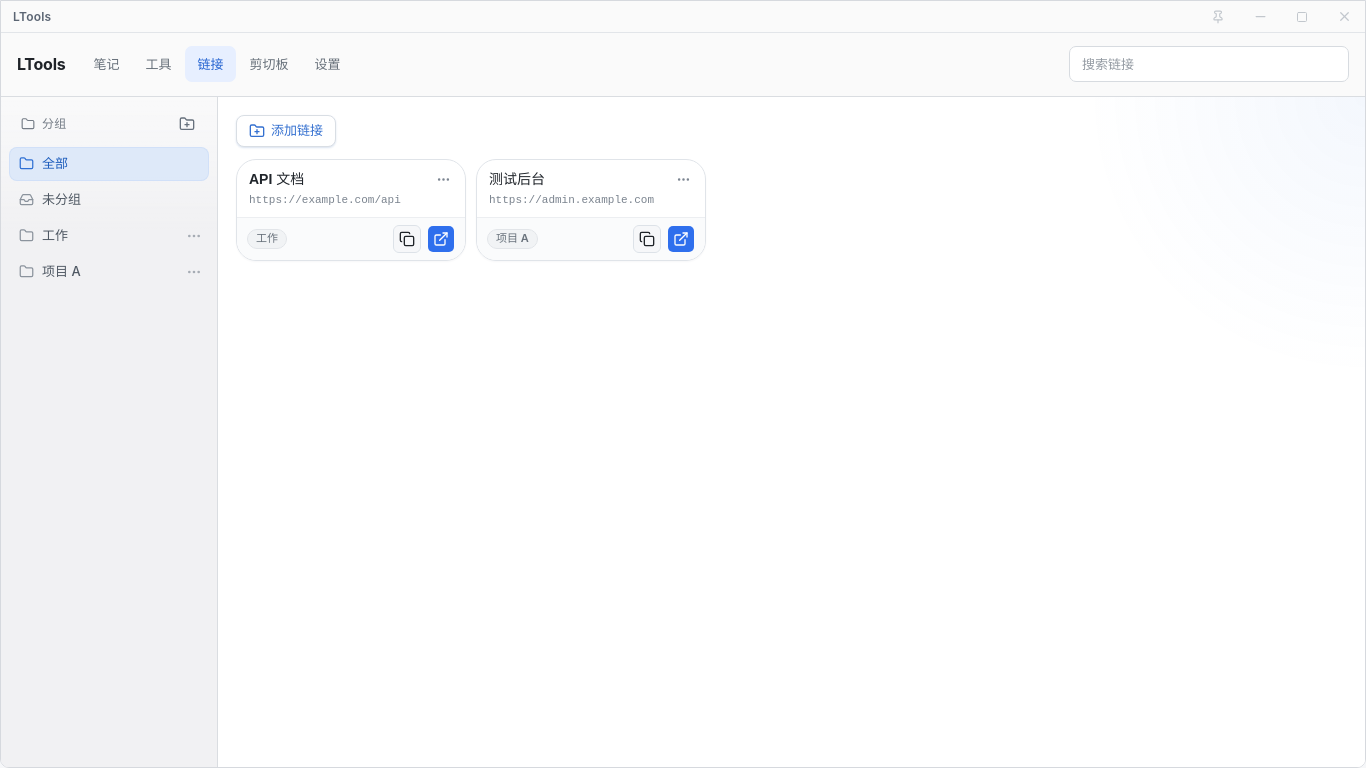
Scenario: shared group management › opens an accessible create dialog and closes it with Escape
The width and height of the screenshot is (1366, 768).
Click the button named "新建分组": (187, 124) x1=173 y1=110 x2=201 y2=138
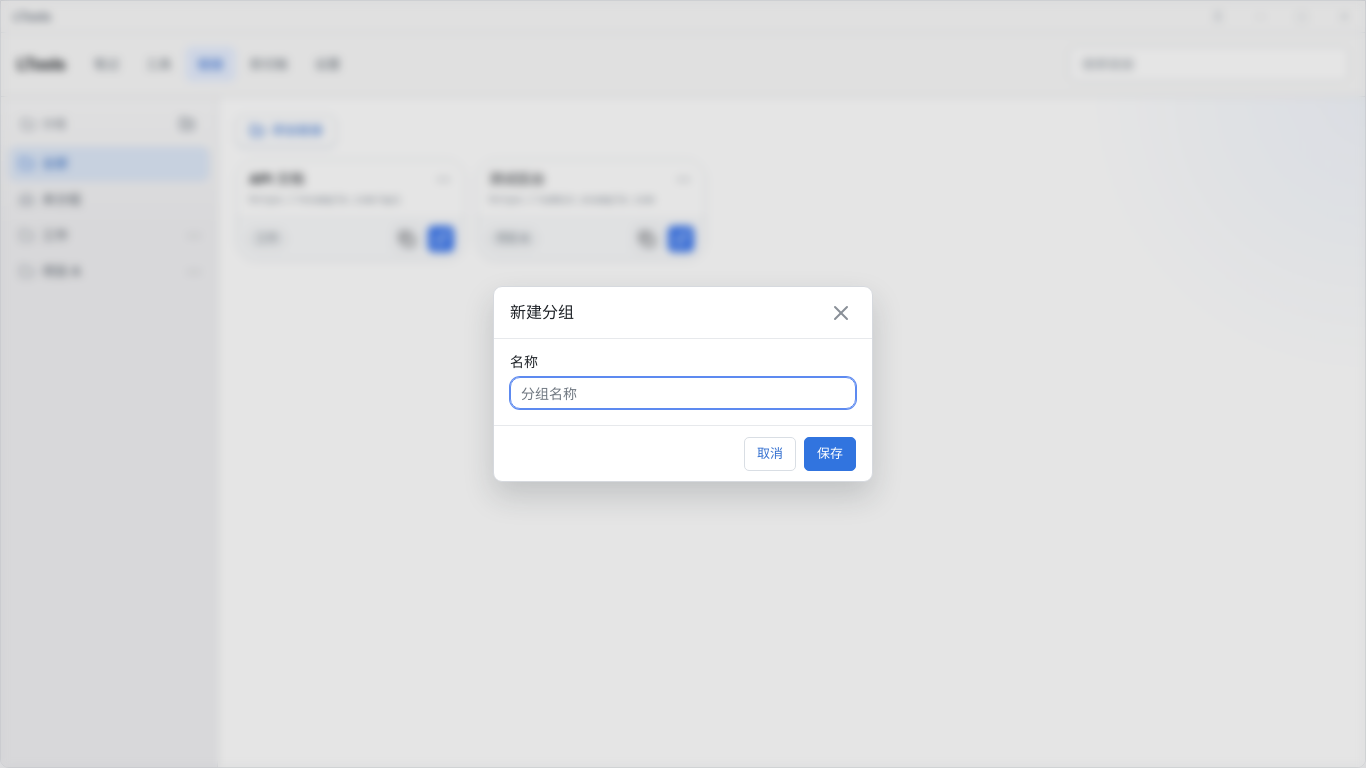
Expected: the dialog "新建分组" is shown, x1=493 y1=286 x2=873 y2=482
Expected: the field labelled "名称" is shown, x1=510 y1=377 x2=856 y2=409
Press Escape
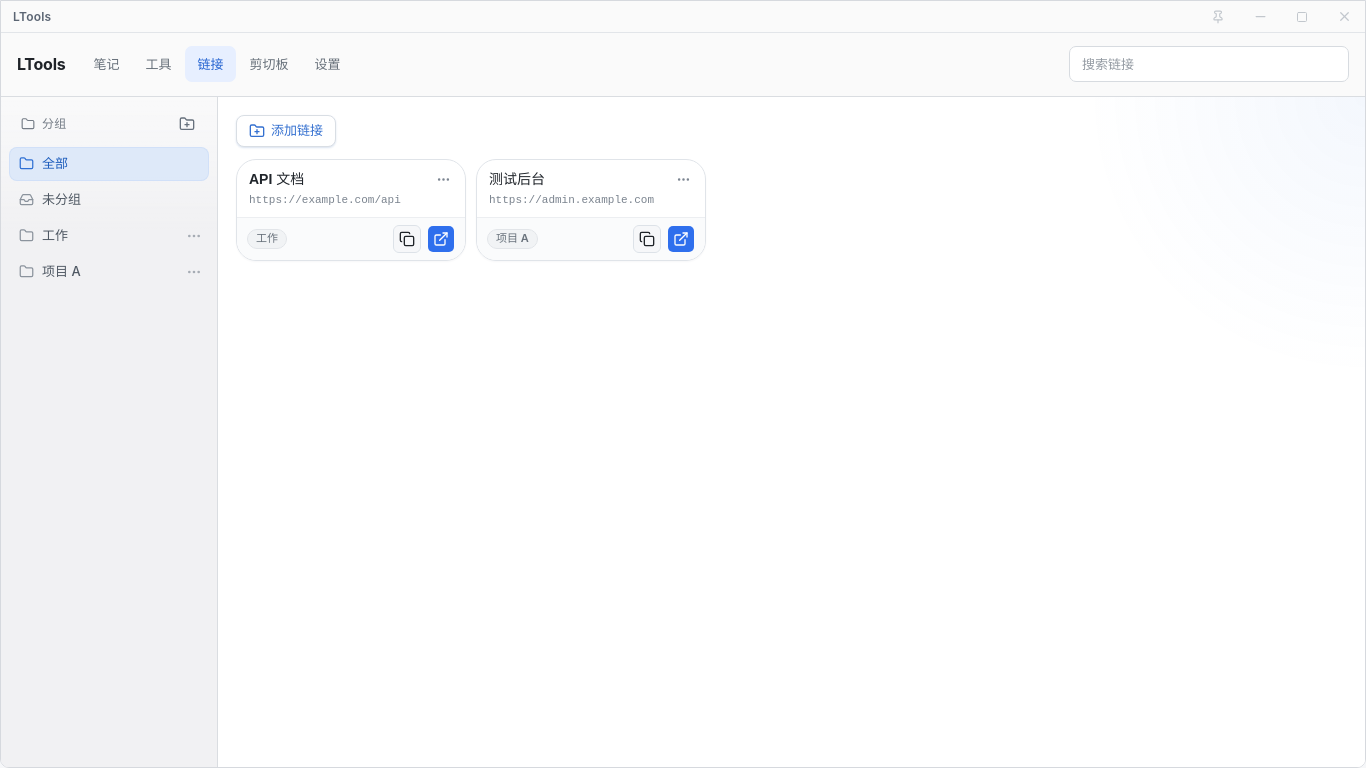
Expected: the heading "新建分组" is gone
